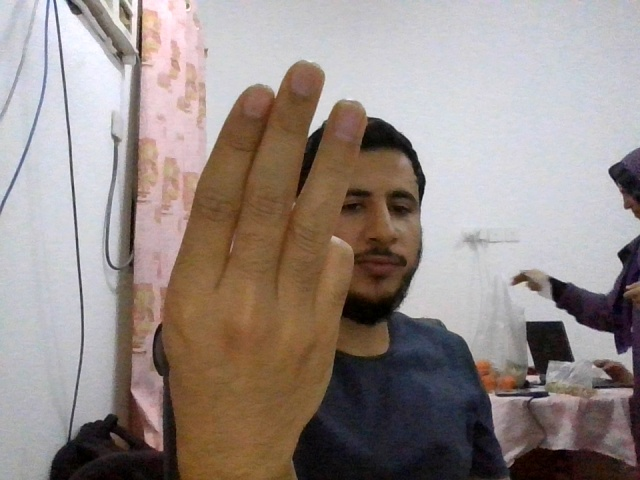Three: (162, 59, 368, 414)
